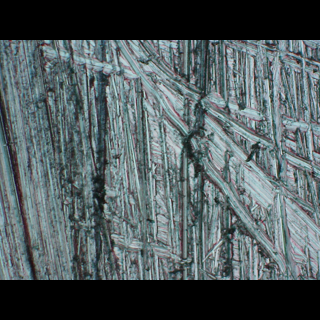d: (108, 40, 319, 268)
